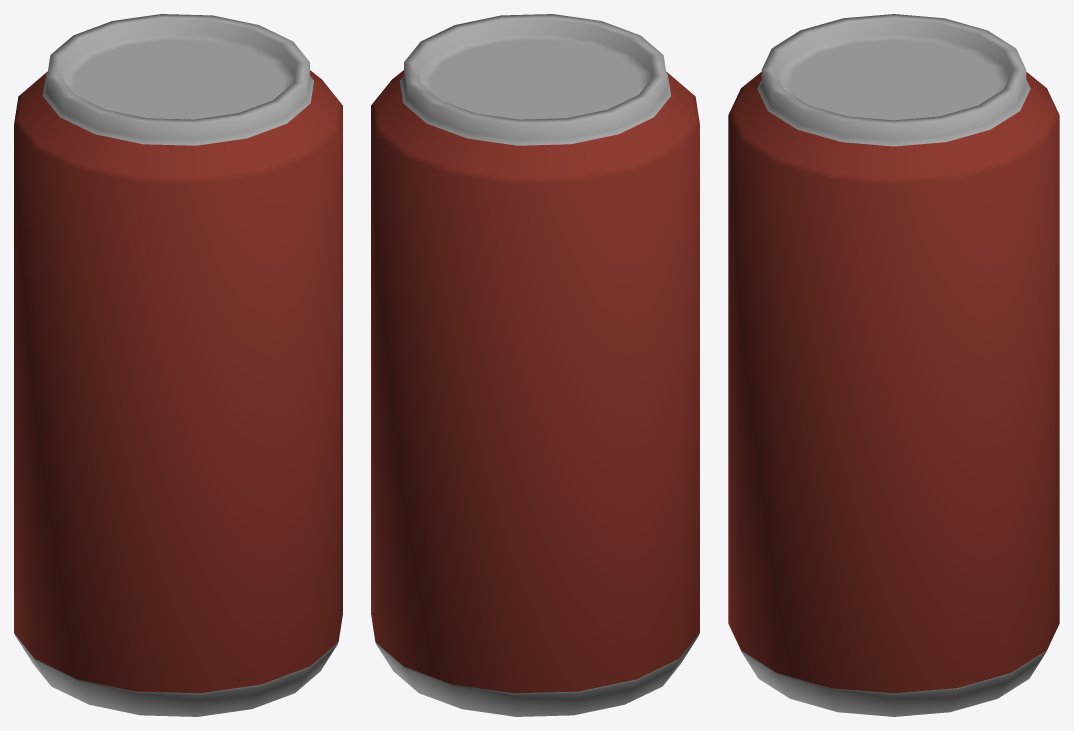
Rendered from Soda Can001.fbx.
The picture shows the model from 3 angles, left to right: view 1: azimuth 30°, elevation 25°; view 2: azimuth 150°, elevation 25°; view 3: azimuth 270°, elevation 25°; orthographic projection.
Visible parts, largest first — view 1: Cylinder; view 2: Cylinder; view 3: Cylinder.
Boxes of the visible parts, box(x1,y1,x2,y2) form: Cylinder: box(14, 14, 342, 716); Cylinder: box(371, 14, 699, 716); Cylinder: box(728, 14, 1059, 716).
Size of the model in its own units: 60 by 117 by 60.
